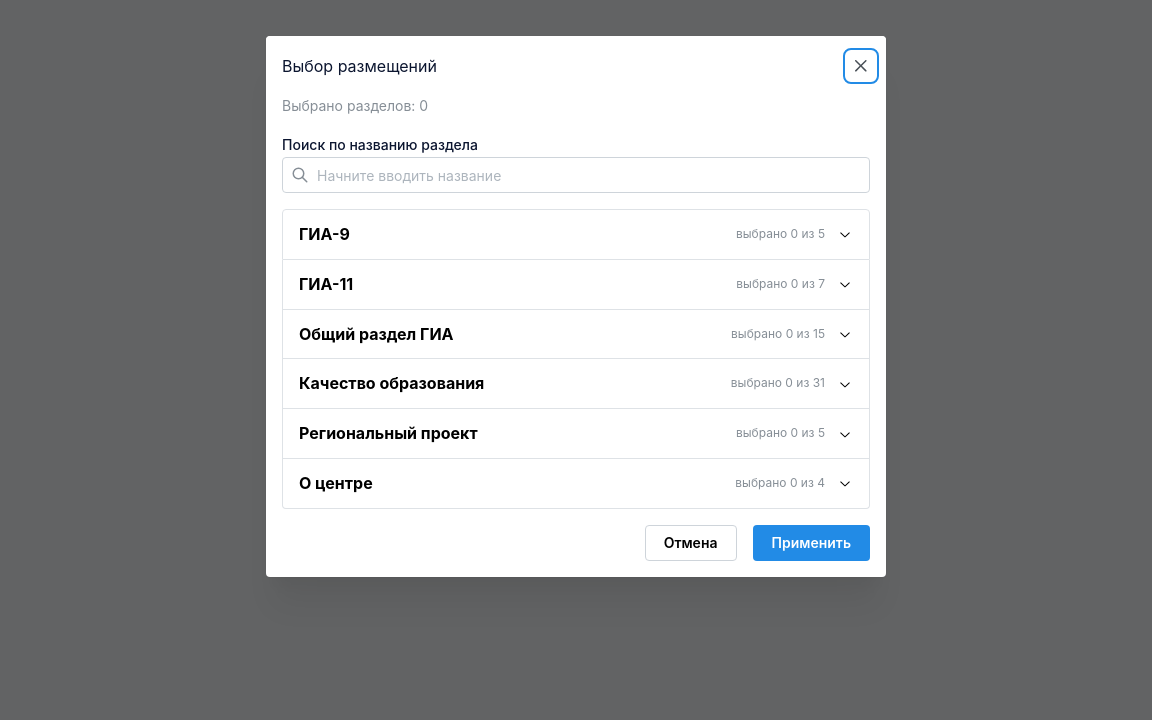
PlacementSelector › selects and clears a group and reports the count
The width and height of the screenshot is (1152, 720).
What coordinates should you click on to do the following:
click the button "ГИА-9 выбрано 0 из 5"
I would click on:
 (324, 234)
Its box is [283,210,869,259].
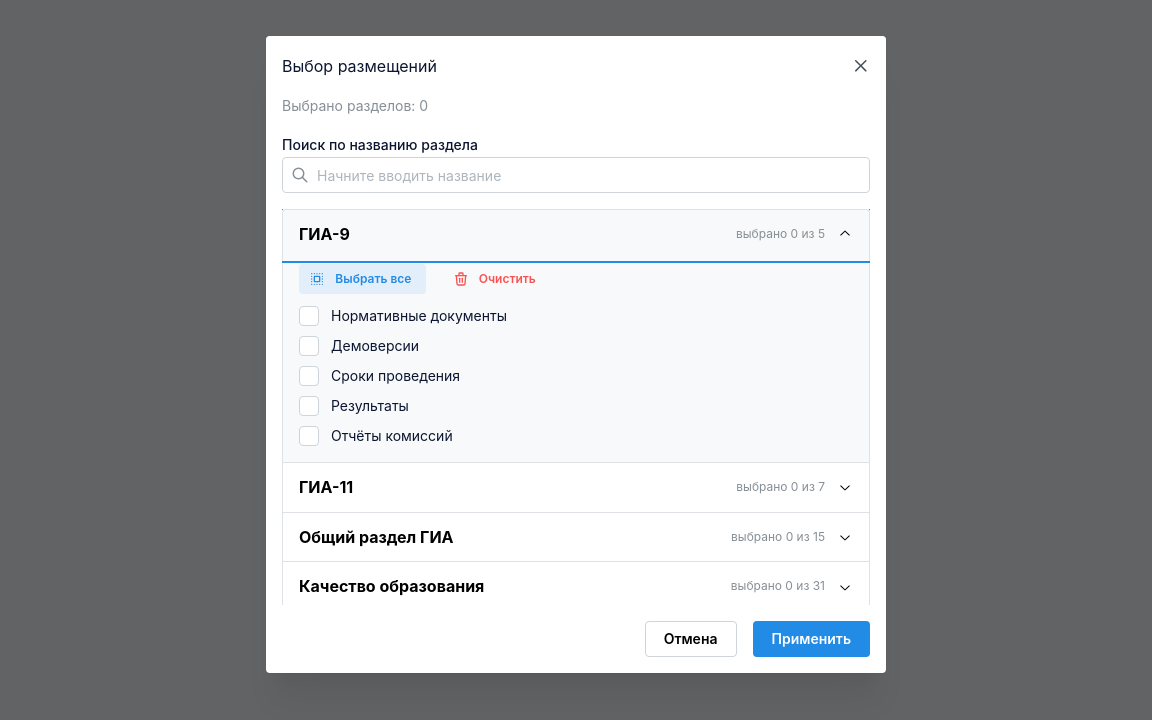
What coordinates should you click on to do the following:
click the button "Выбрать все"
I would click on:
 (363, 279)
Its box is [299,264,426,294].
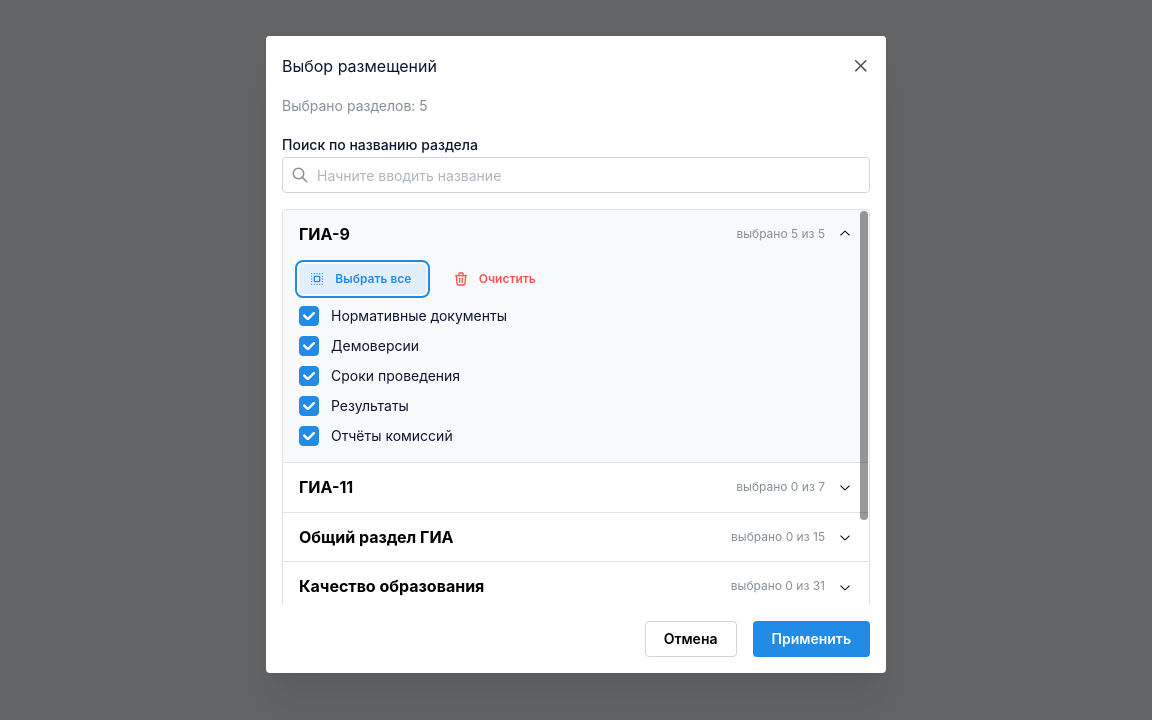
What coordinates should you click on to do the following:
click the button "Очистить"
I would click on:
 (497, 279)
Its box is [442,264,551,294].
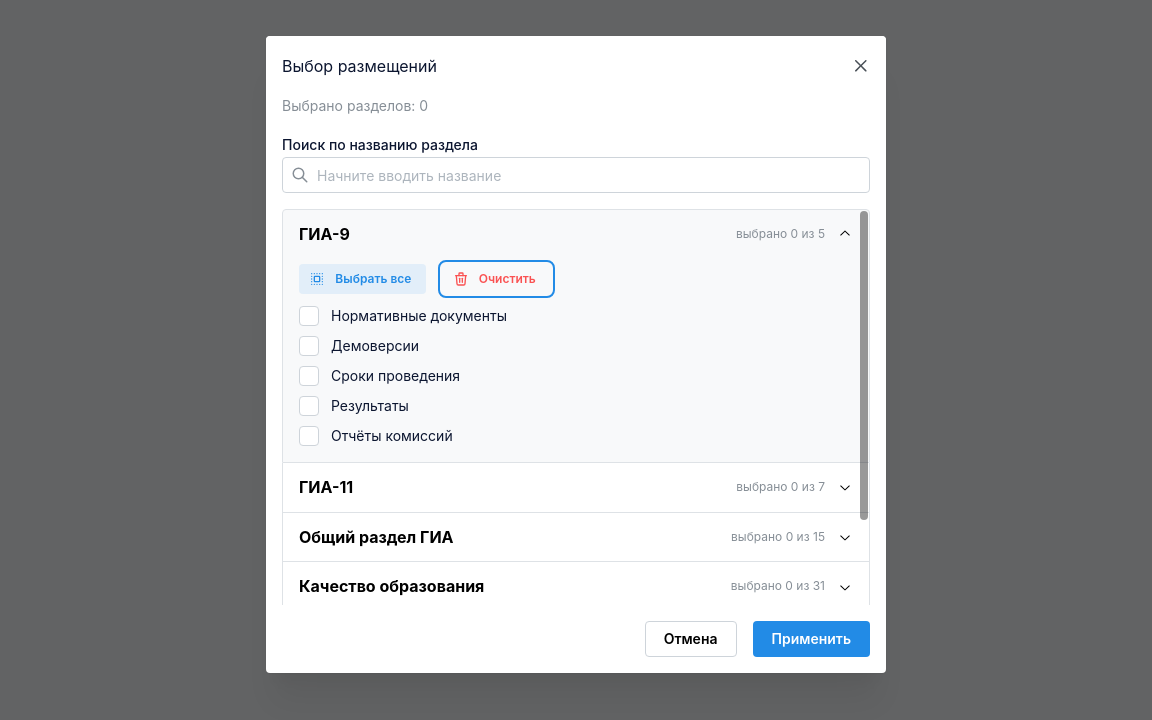
Now the text "Выбрано разделов: 0" is shown, box [282,97,428,114]
